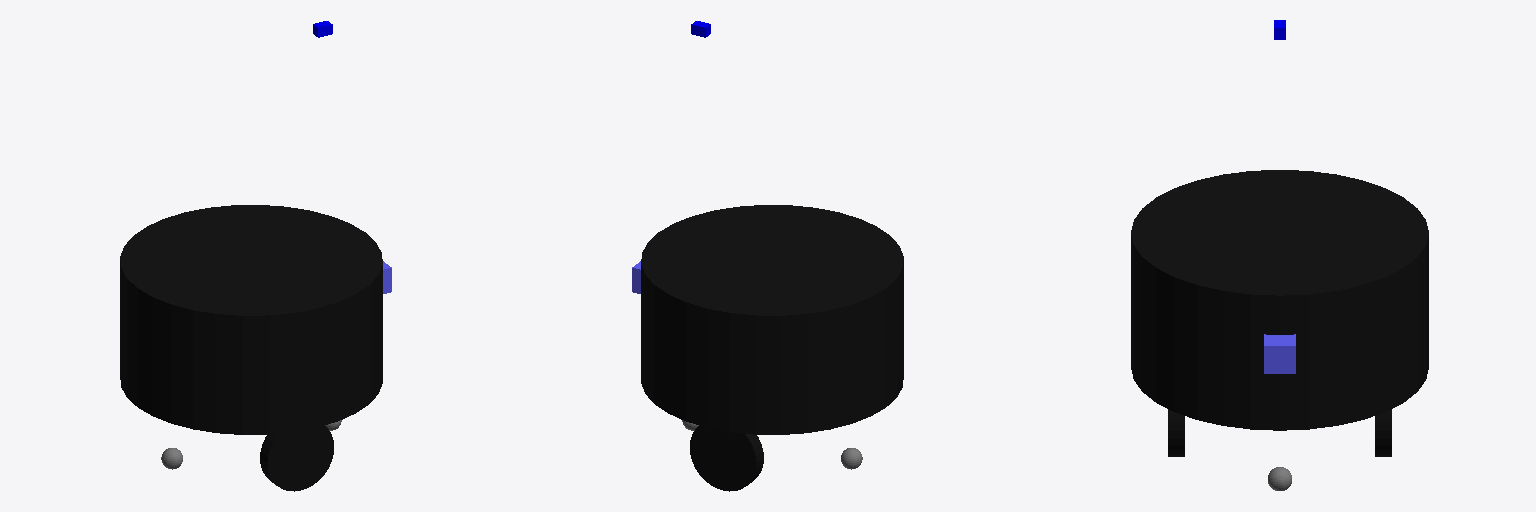
URDF robot description (bobo_standalone):
<?xml version="1.0" ?>
<!-- =================================================================================== -->
<!-- |    This document was autogenerated by xacro from bobo_complete.xacro            | -->
<!-- |    EDITING THIS FILE BY HAND IS NOT RECOMMENDED                                 | -->
<!-- =================================================================================== -->
<robot name="bobo_standalone" xmlns:controller="http://playerstage.sourceforge.net/gazebo/xmlschema/#controller" xmlns:interface="http://playerstage.sourceforge.net/gazebo/xmlschema/#interface" xmlns:sensor="http://playerstage.sourceforge.net/gazebo/xmlschema/#sensor">
  <material name="white">
    <color rgba="1 1 1 0.8"/>
  </material>
  <material name="grey">
    <color rgba="0.5 0.5 0.5 1"/>
  </material>
  <material name="light_grey">
    <color rgba="0.6 0.6 0.6 0.7"/>
  </material>
  <material name="dark_grey">
    <color rgba="0.3 0.3 0.3 0.7"/>
  </material>
  <material name="black">
    <color rgba="0.1 0.1 0.1 0.8"/>
  </material>
  <material name="red">
    <color rgba="1 0 0 0.8"/>
  </material>
  <material name="green">
    <color rgba="0.0 0.8 0.0 1"/>
  </material>
  <material name="blue">
    <color rgba="0.0 0.0 1.0 1"/>
  </material>
  <material name="grey_blue">
    <color rgba="0.4 0.4 1.0 0.8"/>
  </material>
  <material name="orange">
    <color rgba="1.0 0.7 0.0 1"/>
  </material>
  <ros2_control name="GazeboSystem" type="system">
    <hardware>
      <plugin>gazebo_ros2_control/GazeboSystem</plugin>
    </hardware>
    <joint name="left_wheel_joint">
      <command_interface name="velocity">
        <param name="min">-1</param>
        <param name="max">1</param>
      </command_interface>
      <state_interface name="velocity"/>
      <state_interface name="position"/>
    </joint>
    <joint name="right_wheel_joint">
      <command_interface name="velocity">
        <param name="min">-1</param>
        <param name="max">1</param>
      </command_interface>
      <state_interface name="velocity"/>
      <state_interface name="position"/>
    </joint>
  </ros2_control>
  <gazebo>
    <plugin filename="libgazebo_ros2_control.so" name="gazebo_ros2_control">
      <robot_param>robot_description</robot_param>
      <robot_param_node>robot_state_publisher</robot_param_node>
      <parameters>[local-path]/test_ws/src/bobo_simulation/simulation_packages/romrobots_description/config/bobo_controllers.yaml</parameters>
      <!-- Output -->
      <odometry_frame>odom</odometry_frame>
      <robot_base_frame>base_footprint</robot_base_frame>
      <publish_odom>true</publish_odom>
      <publish_odom_tf>true</publish_odom_tf>
      <publish_wheel_tf>true</publish_wheel_tf>
    </plugin>
  </gazebo>
  <gazebo reference="left_wheel_link">
    <material>Gazebo/Black</material>
    <!-- <kp>1000000.0</kp>
      <kd>10.0</kd>
      <mu1>1.2</mu1>
      <mu2>1.2</mu2>
      <fdir1>1 0 0</fdir1>
      <maxVel>0.5</maxVel>
      <minDepth>0.00</minDepth> -->
  </gazebo>
  <gazebo reference="right_wheel_link">
    <material>Gazebo/Black</material>
    <!-- <kp>1000000.0</kp>
      <kd>10.0</kd>
      <mu1>1.2</mu1>
      <mu2>1.2</mu2>
      <fdir1>1 0 0</fdir1>
      <maxVel>0.5</maxVel>  
      <minDepth>0.00</minDepth> -->
  </gazebo>
  <gazebo reference="caster_front_link">
    <material>Gazebo/Black</material>
    <!-- <mu1>1.0</mu1>
      <mu2>0.05</mu2> -->
  </gazebo>
  <gazebo reference="caster_back_link">
    <material>Gazebo/Black</material>
    <!-- <mu1>1.0</mu1>
      <mu2>0.05</mu2> -->
  </gazebo>
  <gazebo reference="imu_link">
    <gravity>true</gravity>
    <sensor name="imu_sensor" type="imu">
      <always_on>true</always_on>
      <update_rate>20</update_rate>
      <visualize>true</visualize>
      <topic>/imu</topic>
      <plugin filename="libgazebo_ros_imu_sensor.so" name="imu">
        <topicName>imu</topicName>
        <bodyName>imu_link</bodyName>
        <updateRateHZ>10.0</updateRateHZ>
        <gaussianNoise>0.0</gaussianNoise>
        <xyzOffset>0 0 0</xyzOffset>
        <rpyOffset>0 0 0</rpyOffset>
        <frameName>imu_link</frameName>
        <initialOrientationAsReference>false</initialOrientationAsReference>
      </plugin>
      <pose>0 0 0 0 0 0</pose>
    </sensor>
  </gazebo>
  <!-- TOP CAMERA -->
  <joint name="camera_optical_joint" type="fixed">
    <parent link="cam3d_top_link"/>
    <child link="camera_link_optical"/>
    <origin rpy="-1.57075 0 -1.57075" xyz="0 0 0"/>
    <!-- ${-pi/2} -->
  </joint>
  <link name="camera_link_optical"/>
  <gazebo reference="cam3d_top_link">
    <material>Gazebo/Blue</material>
    <sensor name="camera_top" type="depth">
      <pose>0 0 0 0 0 0</pose>
      <visualize>true</visualize>
      <update_rate>10</update_rate>
      <camera>
        <horizontal_fov>1.089</horizontal_fov>
        <image>
          <format>B8G8R8</format>
          <width>640</width>
          <height>480</height>
        </image>
        <clip>
          <near>0.05</near>
          <far>8.0</far>
        </clip>
      </camera>
      <plugin filename="libgazebo_ros_camera.so" name="camera_controller_top">
        <frame_name>camera_link_optical</frame_name>
        <min_depth>0.1</min_depth>
        <max_depth>50</max_depth>
      </plugin>
    </sensor>
  </gazebo>
  <gazebo reference="laser_link">
    <material>Gazebo/Red</material>
    <sensor name="laser" type="ray">
      <pose>0 0 0 0 0 0</pose>
      <visualize>true</visualize>
      <update_rate>20</update_rate>
      <ray>
        <scan>
          <horizontal>
            <samples>360</samples>
            <resolution>1</resolution>
            <min_angle>-2.3562</min_angle>
            <!-- -3.14 -->
            <max_angle>2.3562</max_angle>
            <!-- 3.14 -->
          </horizontal>
        </scan>
        <range>
          <min>0.5</min>
          <!-- 0.3 -->
          <max>12</max>
          <!-- 12 -->
          <resolution>0.01</resolution>
        </range>
      </ray>
      <plugin filename="libgazebo_ros_ray_sensor.so" name="laser_controller">
        <ros>
          <argument>~/out:=scan</argument>
        </ros>
        <output_type>sensor_msgs/LaserScan</output_type>
        <frame_name>laser_link</frame_name>
      </plugin>
    </sensor>
  </gazebo>
  <link name="base_footprint"/>
  <joint name="base_joint" type="fixed">
    <origin rpy="0 0 0" xyz="0 0 0.0102"/>
    <parent link="base_footprint"/>
    <child link="base_link"/>
  </joint>
  <link name="base_link">
    <visual>
      <geometry>
        <!-- new mesh -->
        <cylinder length="0.24" radius="0.24"/>
      </geometry>
      <!-- <origin xyz="0 0 0.15" rpy="0 0 0"/> -->
      <origin rpy="0 0 0" xyz="0 0 0.25"/>
      <material name="black"/>
    </visual>
    <collision name="base">
      <geometry>
        <cylinder length="0.24" radius="0.24"/>
      </geometry>
      <!-- <origin xyz="0.0 0 0.15" rpy="0 0 0"/> -->
      <origin rpy="0 0 0" xyz="0 0 0.25"/>
    </collision>
    <inertial>
      <origin xyz="0.01 0 0"/>
      <mass value="2.4"/>
      <inertia ixx="0.019995" ixy="0.0" ixz="0.0" iyy="0.019995" iyz="0.0" izz="0.03675"/>
    </inertial>
  </link>
  <joint name="left_wheel_joint" type="continuous">
    <parent link="base_link"/>
    <child link="left_wheel_link"/>
    <!-- <origin xyz="0.00 ${0.333/2} 0.02" rpy="${-M_PI/2} 0 0"/> -->
    <origin rpy="-1.5707963267948966 0 0" xyz="0.00 0.1665 0.05"/>
    <axis xyz="0 0 1"/>
  </joint>
  <link name="left_wheel_link">
    <visual>
      <geometry>
        <cylinder length="0.0276" radius="0.0705"/>
      </geometry>
      <!-- <origin xyz="0 -0.03 0" rpy="0 0 0"/> -->
      <origin rpy="0 0 0" xyz="0 0 0"/>
      <material name="black"/>
    </visual>
    <collision>
      <geometry>
        <sphere radius="0.0705"/>
      </geometry>
      <origin rpy="0 0 0" xyz="0 0 0"/>
    </collision>
    <inertial>
      <mass value="0.01"/>
      <origin xyz="0 0 0"/>
      <inertia ixx="0.001" ixy="0.0" ixz="0.0" iyy="0.001" iyz="0.0" izz="0.001"/>
    </inertial>
  </link>
  <joint name="right_wheel_joint" type="continuous">
    <parent link="base_link"/>
    <child link="right_wheel_link"/>
    <origin rpy="-1.5707963267948966 0 0" xyz="0.00 -0.1665 0.05"/>
    <axis xyz="0 0 1"/>
  </joint>
  <link name="right_wheel_link">
    <visual>
      <geometry>
        <cylinder length="0.0276" radius="0.0705"/>
      </geometry>
      <!-- <origin xyz="0 -0.03 0" rpy="0 0 0"/> -->
      <origin rpy="0 0 0" xyz="0 0 0"/>
      <material name="black"/>
    </visual>
    <collision>
      <geometry>
        <sphere radius="0.0705"/>
      </geometry>
      <origin rpy="0 0 0" xyz="0 0 0"/>
    </collision>
    <inertial>
      <mass value="0.01"/>
      <origin xyz="0 0 0"/>
      <inertia ixx="0.001" ixy="0.0" ixz="0.0" iyy="0.001" iyz="0.0" izz="0.001"/>
    </inertial>
  </link>
  <!-- NEW CASTER -->
  <link name="front_caster_ball">
    <inertial>
      <mass value="0.1"/>
      <!-- Adjust the mass as per your robot's specs -->
      <inertia ixx="0.001" ixy="0.0" ixz="0.0" iyy="0.001" iyz="0.0" izz="0.001"/>
    </inertial>
    <visual>
      <geometry>
        <sphere radius="0.02"/>
        <!-- Radius of the caster ball -->
      </geometry>
      <material name="grey">
        <color rgba="0.5 0.5 0.5 1.0"/>
      </material>
    </visual>
    <collision>
      <geometry>
        <sphere radius="0.02"/>
        <!-- Same radius as the visual element -->
      </geometry>
    </collision>
  </link>
  <joint name="front_caster_ball_joint" type="fixed">
    <parent link="base_link"/>
    <child link="front_caster_ball"/>
    <origin rpy="0 0 0" xyz="0.16676 0 0.01"/>
    <!-- z axis  -->
  </joint>
  <link name="back_caster_ball">
    <inertial>
      <mass value="0.1"/>
      <!-- Adjust the mass as per your robot's specs -->
      <inertia ixx="0.001" ixy="0.0" ixz="0.0" iyy="0.001" iyz="0.0" izz="0.001"/>
    </inertial>
    <visual>
      <geometry>
        <sphere radius="0.02"/>
        <!-- Radius of the caster ball -->
      </geometry>
      <material name="grey">
        <color rgba="0.5 0.5 0.5 1.0"/>
      </material>
    </visual>
    <collision>
      <geometry>
        <sphere radius="0.02"/>
        <!-- Same radius as the visual element -->
      </geometry>
    </collision>
  </link>
  <joint name="back_caster_ball_joint" type="fixed">
    <parent link="base_link"/>
    <child link="back_caster_ball"/>
    <origin rpy="0 0 0" xyz="-0.16676 0 0.01"/>
    <!-- z axis  -->
  </joint>
  <!-- caster end -->
  <joint name="imu_joint" type="fixed">
    <parent link="base_link"/>
    <child link="imu_link"/>
    <origin rpy="0 0 0" xyz="0 0 0.268"/>
  </joint>
  <link name="imu_link">
    <visual>
      <origin rpy="0 0 0" xyz="0 0 0.0"/>
      <geometry>
        <box size="0.03 0.02 0.02"/>
      </geometry>
      <material name="red"/>
    </visual>
  </link>
  <joint name="laser_joint" type="fixed">
    <parent link="base_link"/>
    <child link="laser_link"/>
    <!-- <origin xyz="0.156 0 0.275" rpy="0 0 0"/> -->
    <origin rpy="0 0 0" xyz="0.256 0 0.275"/>
  </joint>
  <link name="laser_link">
    <visual>
      <origin rpy="0 0 0" xyz="0 0 0.0"/>
      <geometry>
        <box size="0.05 0.05 0.05"/>
      </geometry>
      <material name="grey_blue"/>
    </visual>
    <collision>
      <origin rpy="0 0 0" xyz="0.015 0 -0.0065"/>
      <geometry>
        <cylinder length="0.0315" radius="0.055"/>
      </geometry>
    </collision>
    <!-- <inertial>
        <mass value="0.114" />
        <origin xyz="0 0 0" />
        <inertia ixx="0.001" ixy="0.0" ixz="0.0"
                 iyy="0.001" iyz="0.0"
                 izz="0.001" />
      </inertial> -->
  </link>
  <!-- 3D CAM_Top -->
  <joint name="cam3d_top_joint" type="fixed">
    <parent link="base_link"/>
    <child link="cam3d_top_link"/>
    <origin rpy="0 0 0" xyz="0.15 0 0.8"/>
  </joint>
  <link name="cam3d_top_link">
    <visual>
      <origin rpy="0 0 0" xyz="0 0 0.0"/>
      <geometry>
        <box size="0.03 0.02 0.02"/>
      </geometry>
      <material name="blue"/>
    </visual>
  </link>
</robot>

--- What the picture shows (computed from the rendered views, not written in the file) ---
Views: 3 orthographic renders of the robot side by side, from view 1: azimuth 30°, elevation 25°; view 2: azimuth 150°, elevation 25°; view 3: azimuth 270°, elevation 25°.
Model bobo_standalone with 10 links and 9 joints (2 continuous, 7 fixed), rooted at base_footprint, posed every joint at zero.
Links seen in each view (by area): view 1: base_link, right_wheel_link; view 2: base_link, left_wheel_link; view 3: base_link, laser_link, left_wheel_link, right_wheel_link.
Link boxes in pixels (<box>): base_link: <box>120,205,382,434</box>; right_wheel_link: <box>260,426,333,491</box>; base_link: <box>641,205,903,434</box>; left_wheel_link: <box>690,426,763,491</box>; base_link: <box>1131,170,1428,430</box>; laser_link: <box>1264,334,1295,373</box>; left_wheel_link: <box>1375,409,1391,456</box>; right_wheel_link: <box>1168,409,1184,456</box>.
Bounding box of the posed robot: 0.521 × 0.48 × 0.8305 m (x, y, z).
Geometry: primitives only (box / cylinder / sphere), no mesh files.
